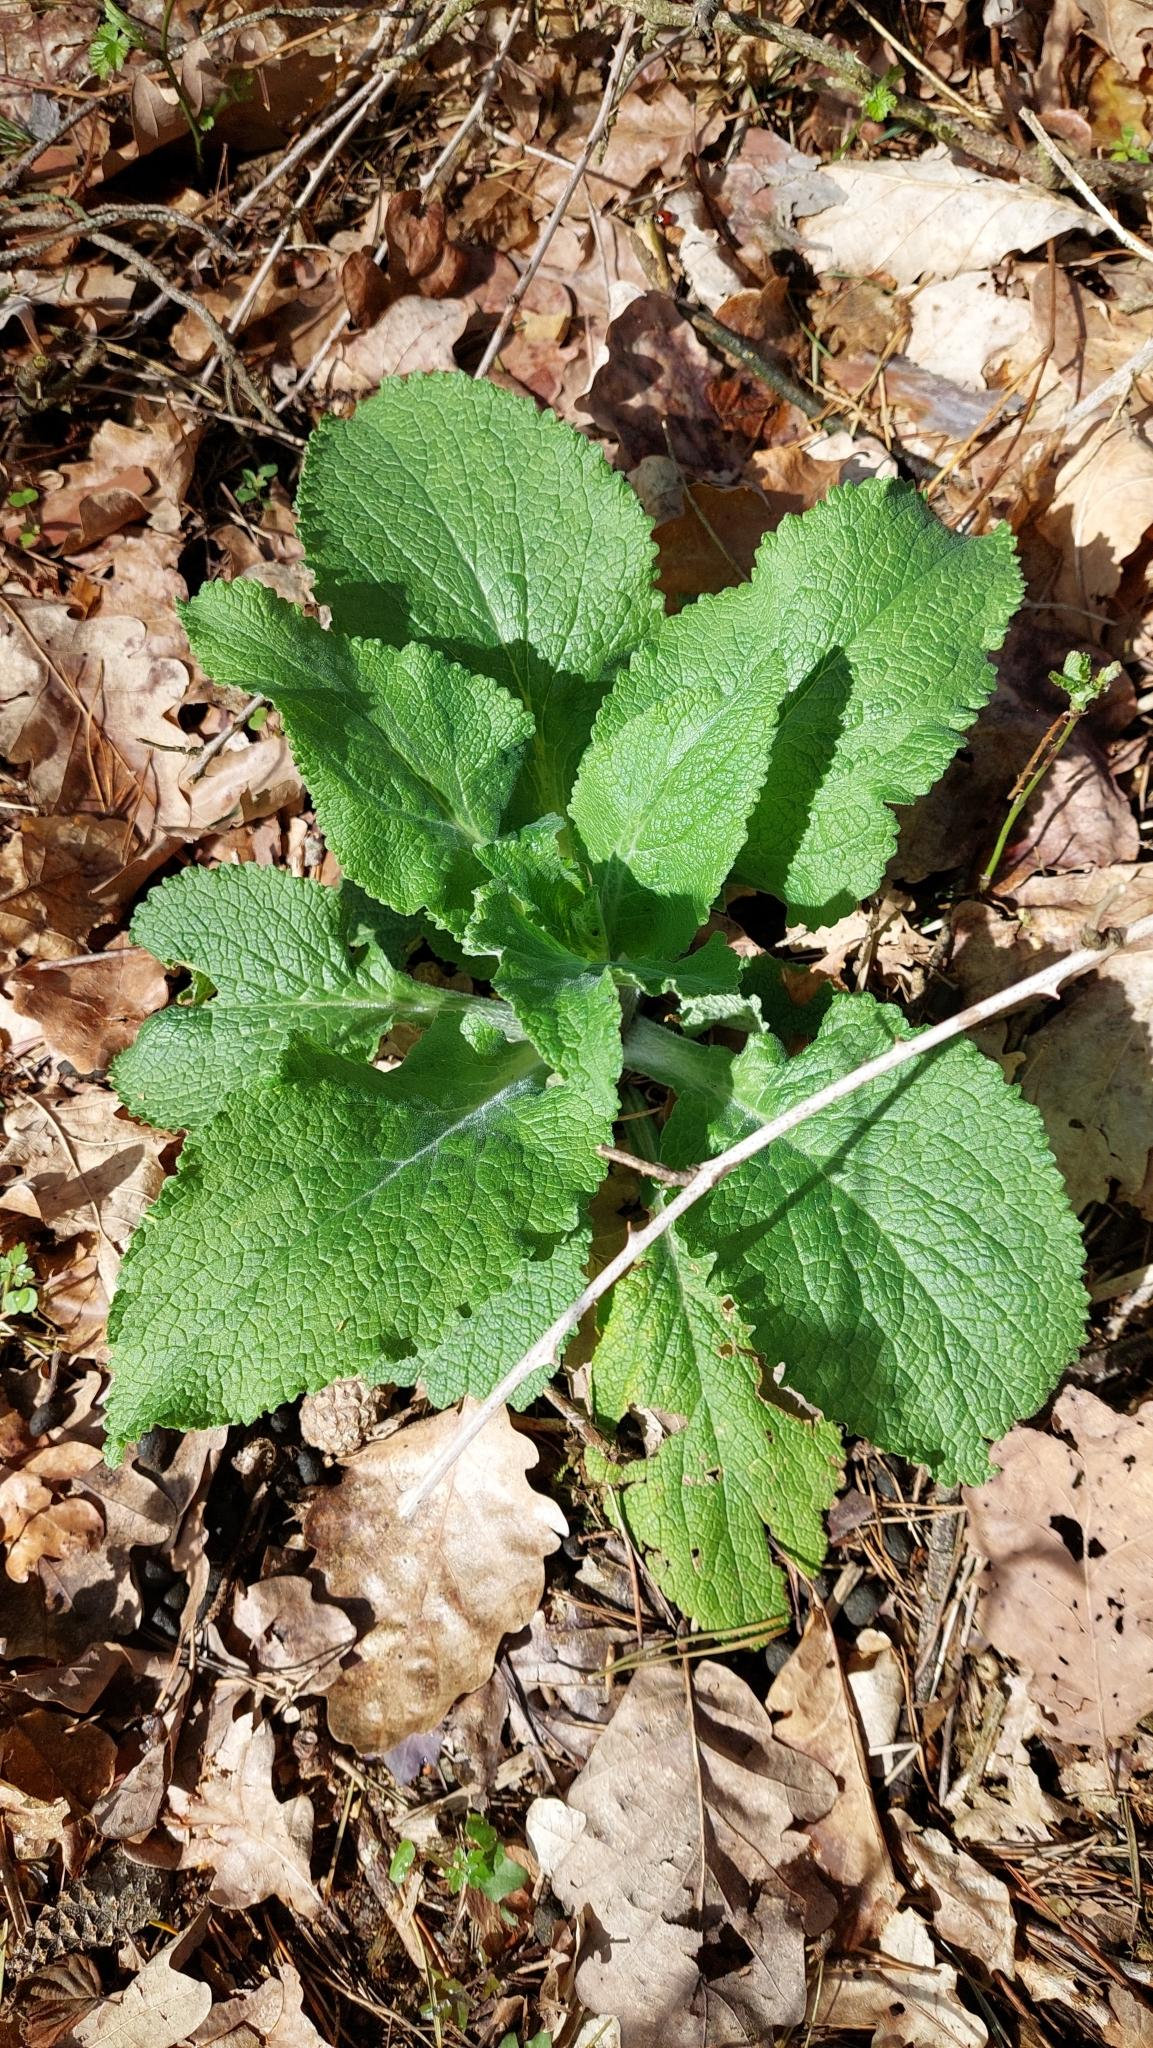Digitalis L: (100, 356, 1102, 1641)
